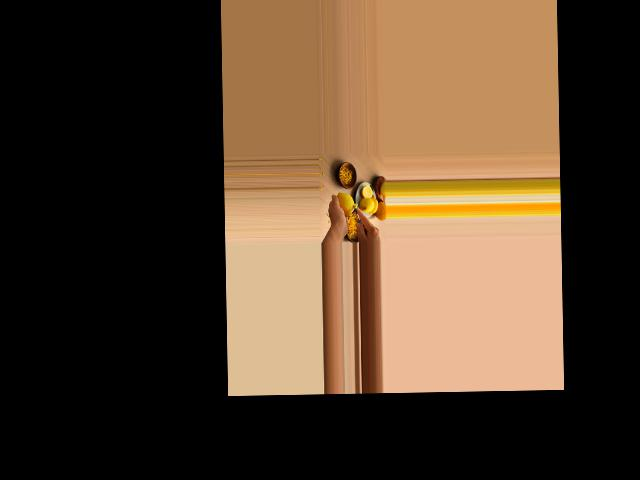lemon: (333, 193, 355, 217)
